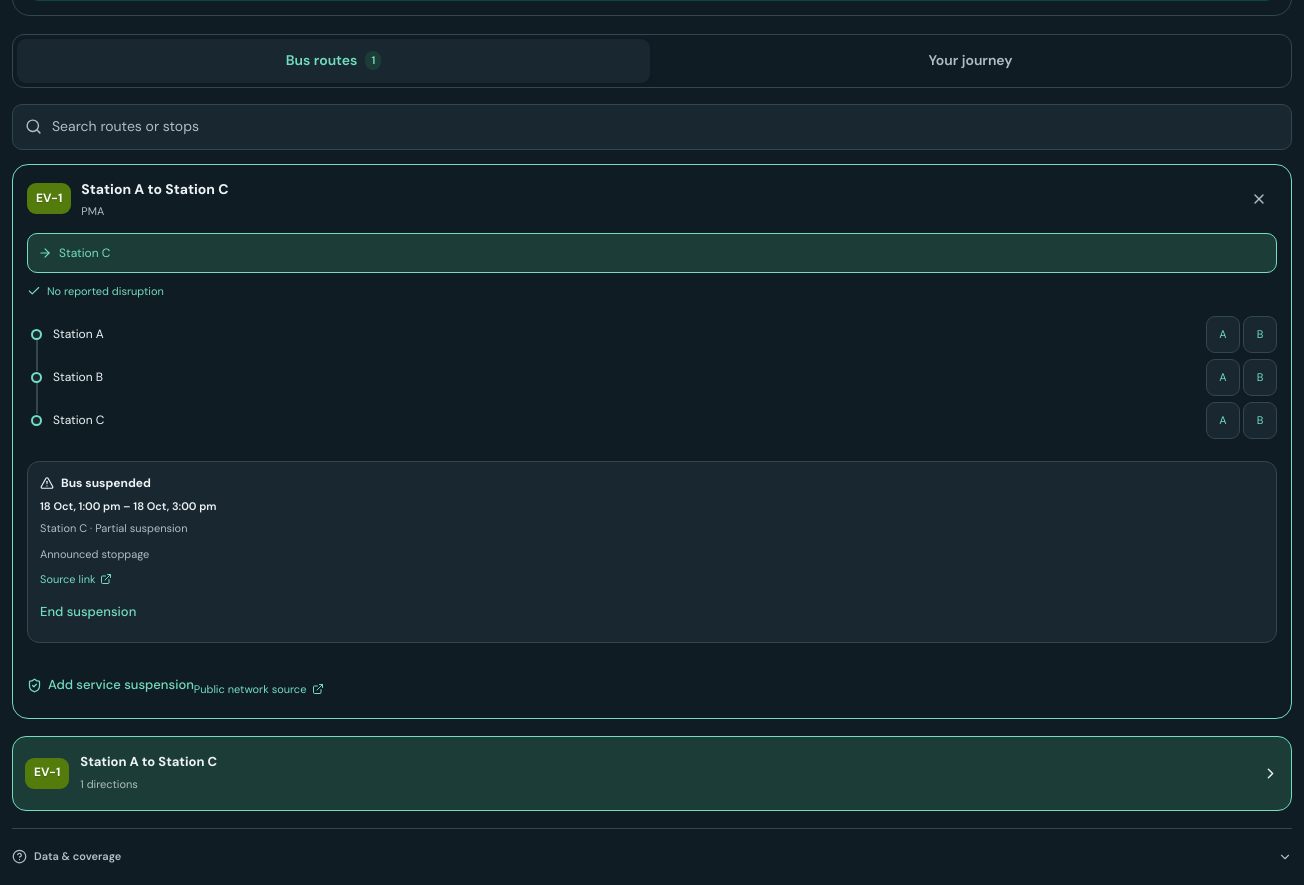
preserves another reviewer’s scoped service notice when current server authority rejects cancellation
(page scrolled)
Click the button "End suspension" at (88, 612), box [40,594,136,630]
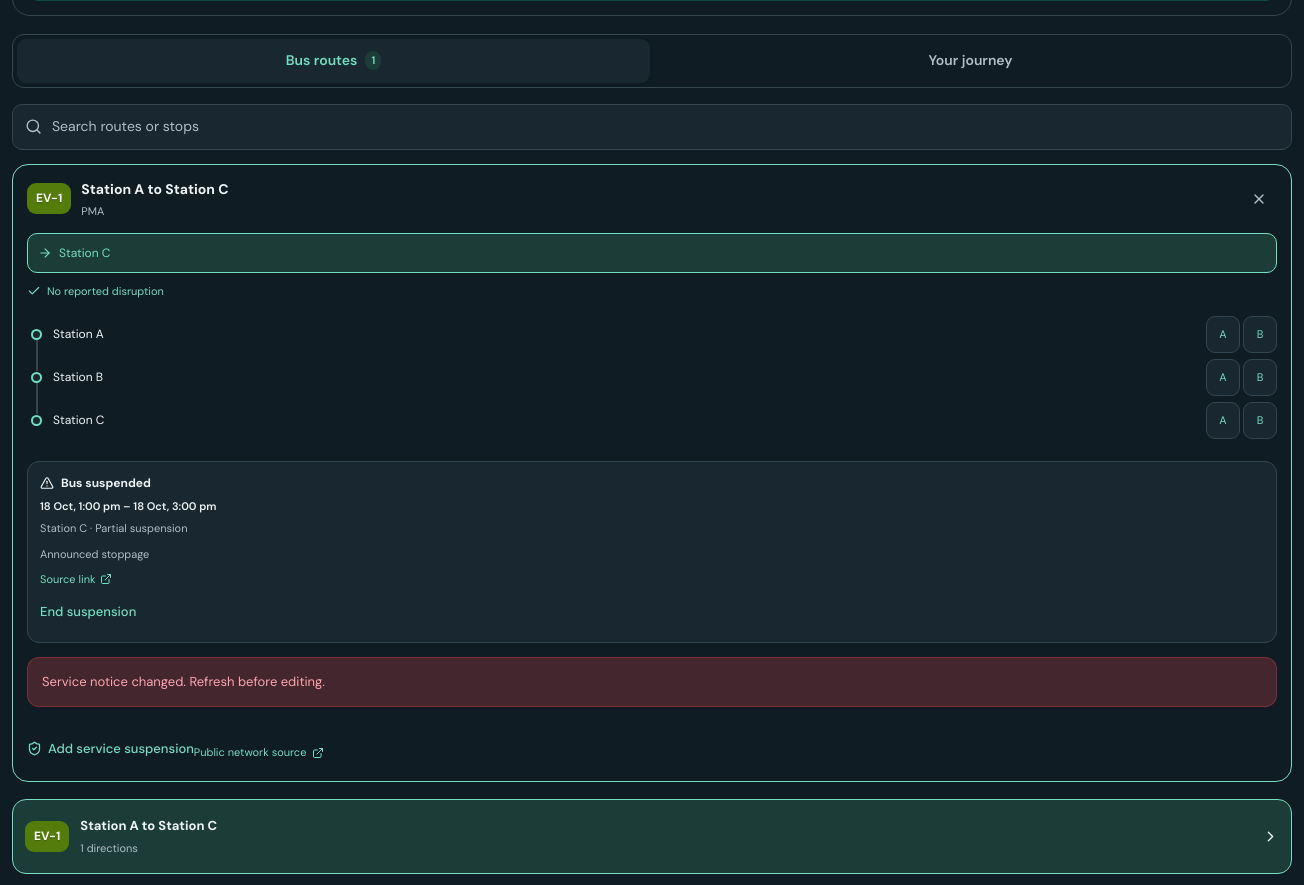
Expected: the text "Bus suspended" is shown, [40,475,151,491]
Result: the message reads "Service notice changed. Refresh before editing." at [42,673,325,690]
